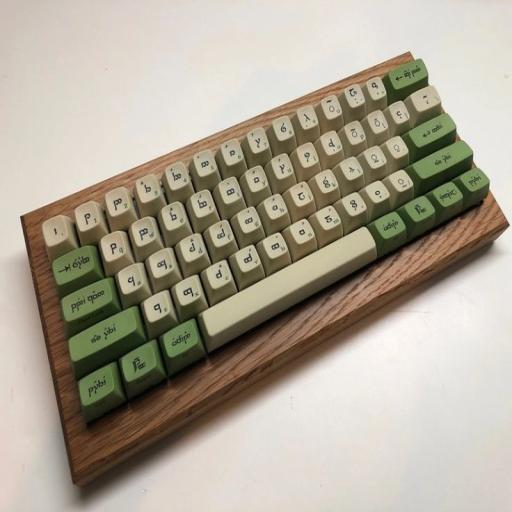KEYBOARD-2: (28, 60, 506, 429)
